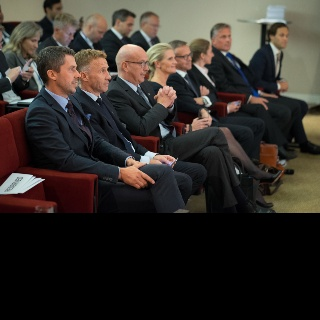without_mask: (54, 53, 81, 96), (86, 56, 111, 92), (127, 51, 150, 84), (20, 33, 41, 57), (159, 48, 177, 73), (177, 45, 193, 72)
